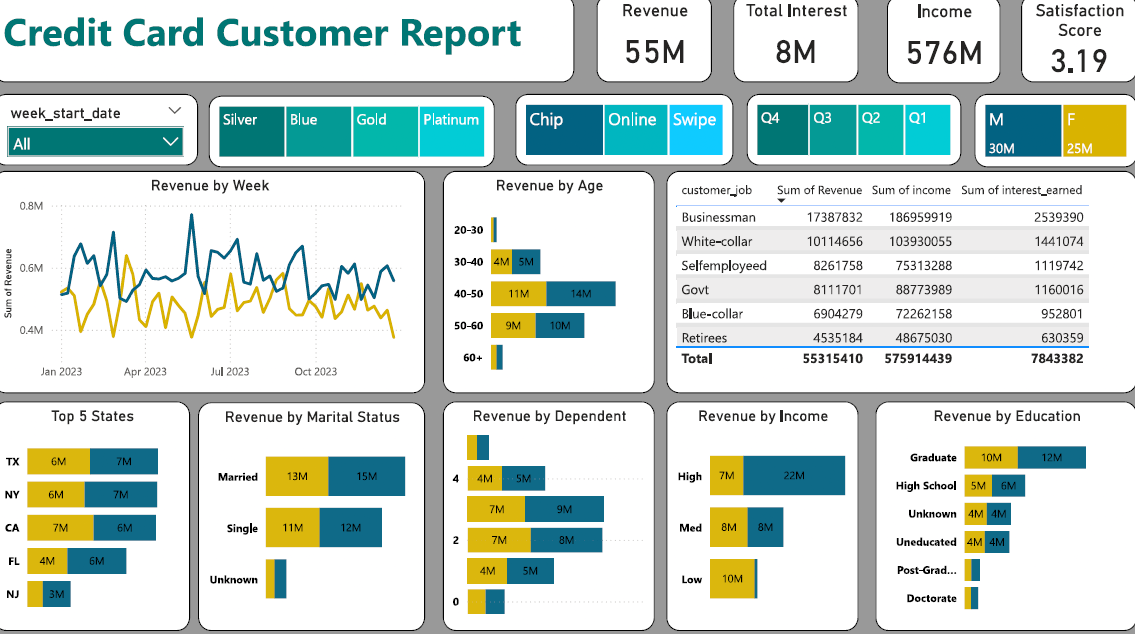

The dashboard page shown, as its layout file describes it:
{"tool":"powerbi","page":{"name":"Credit Card Customer Report","canvas":[1280,720],"ordinal":1},"visuals":[{"type":"tableEx","fields":{"Values":["public cust_detail.customer_job","Sum(public cc_detail.Revenue)","Sum(public cust_detail.income)","Sum(public cc_detail.interest_earned)"]},"box":[752.8,196.6,527.2,249.7],"z":0},{"type":"card","title":"Revenue","fields":{"Values":["Sum(public cc_detail.Revenue)"]},"box":[675,0,128.8,98],"z":1000},{"type":"card","title":"Income","fields":{"Values":["Sum(public cust_detail.income)"]},"box":[999.8,1.3,127.5,98],"z":2000},{"type":"card","title":"Total Interest","fields":{"Values":["Sum(public cc_detail.interest_earned)"]},"box":[828,0,139.6,98],"z":3000},{"type":"card","title":"Satisfaction Score","fields":{"Values":["Avg(public cust_detail.cust_satisfaction_score)"]},"box":[1150.1,0,130.2,98],"z":4000},{"type":"slicer","fields":{"Values":["public cc_detail.week_start_date"]},"box":[0,111,229.2,79.6],"z":5000},{"type":"treemap","fields":{"Values":["Avg(public cc_detail.client_num)"],"Group":["public cc_detail.card_category"]},"box":[241.3,113.4,319.7,79.6],"z":6000},{"type":"textbox","box":[0,0,649.5,98],"z":7000},{"type":"lineChart","title":"Revenue by Week","fields":{"Y":["Sum(public cc_detail.Revenue)"],"Series":["public cust_detail.gender"],"Category":["public cc_detail.week_start_date.Variation.Date Hierarchy.Year","public cc_detail.week_start_date.Variation.Date Hierarchy.Month","public cc_detail.week_start_date.Variation.Date Hierarchy.Day"]},"box":[0,196.6,482.6,249.7],"z":8000},{"type":"treemap","fields":{"Group":["public cust_detail.gender"],"Values":["Sum(public cc_detail.Revenue)"]},"box":[1097.9,111,182.2,82],"z":9000},{"type":"barChart","title":"Revenue by Income","fields":{"Category":["public cust_detail.IncomeGroup"],"Y":["Sum(public cc_detail.Revenue)"],"Series":["public cust_detail.gender"]},"box":[752.8,454.8,214.7,257],"z":10000},{"type":"barChart","title":"Revenue by Age","fields":{"Y":["Sum(public cc_detail.Revenue)"],"Category":["public cust_detail.AgeGroup"],"Series":["public cust_detail.gender"]},"box":[503.1,196.6,236.5,249.7],"z":11000},{"type":"barChart","title":"Revenue by Dependent ","fields":{"Y":["Sum(public cc_detail.Revenue)"],"Category":["public cust_detail.dependent_count"],"Series":["public cust_detail.gender"]},"box":[503.1,454.8,236.5,257],"z":12000},{"type":"barChart","title":"Revenue by Education","fields":{"Y":["Sum(public cc_detail.Revenue)"],"Category":["public cust_detail.education_level"],"Series":["public cust_detail.gender"]},"box":[986.9,454.8,293.2,257],"z":13000},{"type":"barChart","title":"Top 5 States","fields":{"Y":["Sum(public cc_detail.Revenue)"],"Category":["public cust_detail.state_cd"],"Series":["public cust_detail.gender"]},"box":[0,454.8,219.6,257],"z":14000},{"type":"barChart","title":"Revenue by Marital Status","fields":{"Y":["Sum(public cc_detail.Revenue)"],"Category":["public cust_detail.marital_status"],"Series":["public cust_detail.gender"]},"box":[229.2,456,253.4,255.8],"z":15000},{"type":"treemap","fields":{"Values":["Avg(public cc_detail.Revenue)"],"Group":["public cc_detail.use_chip"]},"box":[583.9,111,243.7,79.6],"z":16000},{"type":"treemap","fields":{"Values":["Avg(public cc_detail.client_num)"],"Group":["public cc_detail.qtr"]},"box":[843.3,111,240.1,79.6],"z":17000}]}

Visuals, with their boxes in screenshot pixels (x1, y1, x2, y2), scaled from the page's 1280x720 canvas onto the 1135x634 screenshot:
tableEx - public cust_detail.customer_job x Sum(public cc_detail.Revenue): (668, 173, 1134, 393)
"Revenue" card: (599, 0, 713, 86)
"Income" card: (887, 1, 1000, 87)
"Total Interest" card: (734, 0, 858, 86)
"Satisfaction Score" card: (1020, 0, 1134, 86)
slicer - public cc_detail.week_start_date: (0, 98, 203, 168)
treemap - Avg(public cc_detail.client_num) x public cc_detail.card_category: (214, 100, 497, 170)
textbox: (0, 0, 576, 86)
"Revenue by Week" lineChart: (0, 173, 428, 393)
treemap - public cust_detail.gender x Sum(public cc_detail.Revenue): (974, 98, 1134, 170)
"Revenue by Income" barChart: (668, 400, 858, 627)
"Revenue by Age" barChart: (446, 173, 656, 393)
"Revenue by Dependent " barChart: (446, 400, 656, 627)
"Revenue by Education" barChart: (875, 400, 1134, 627)
"Top 5 States" barChart: (0, 400, 195, 627)
"Revenue by Marital Status" barChart: (203, 402, 428, 627)
treemap - Avg(public cc_detail.Revenue) x public cc_detail.use_chip: (518, 98, 734, 168)
treemap - Avg(public cc_detail.client_num) x public cc_detail.qtr: (748, 98, 961, 168)
